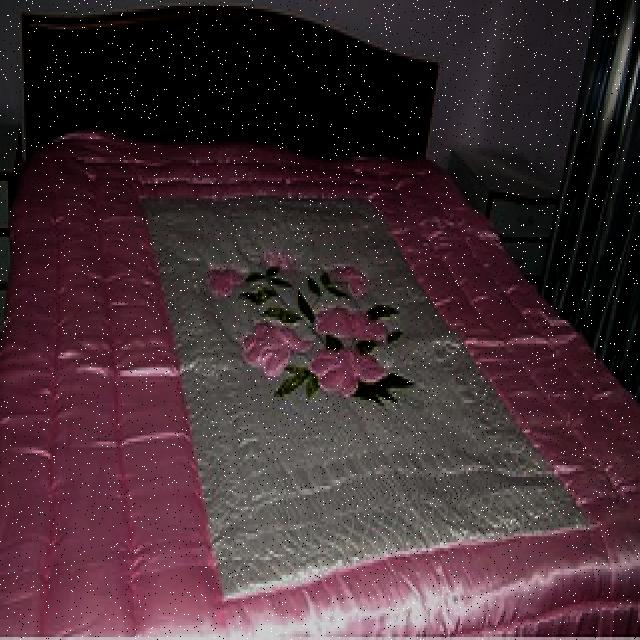bed: (0, 143, 638, 640)
